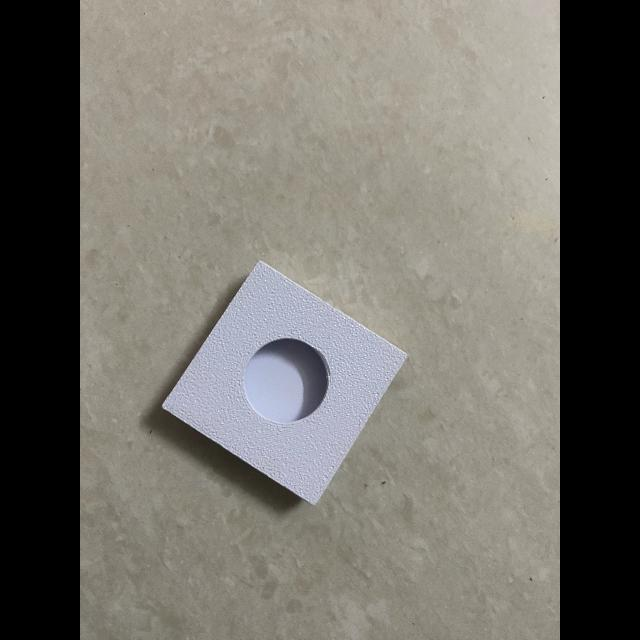RASPBERY PI CAM ENCLOSURE: (162, 260, 408, 506)
